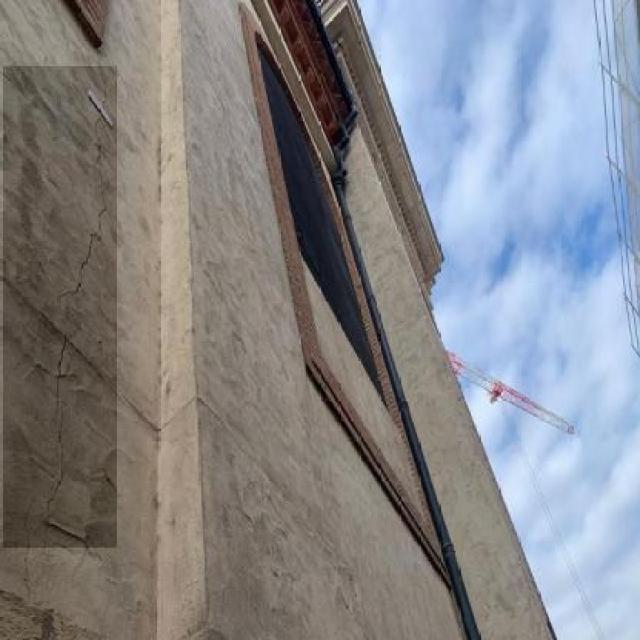Crack: (1, 68, 117, 546)
